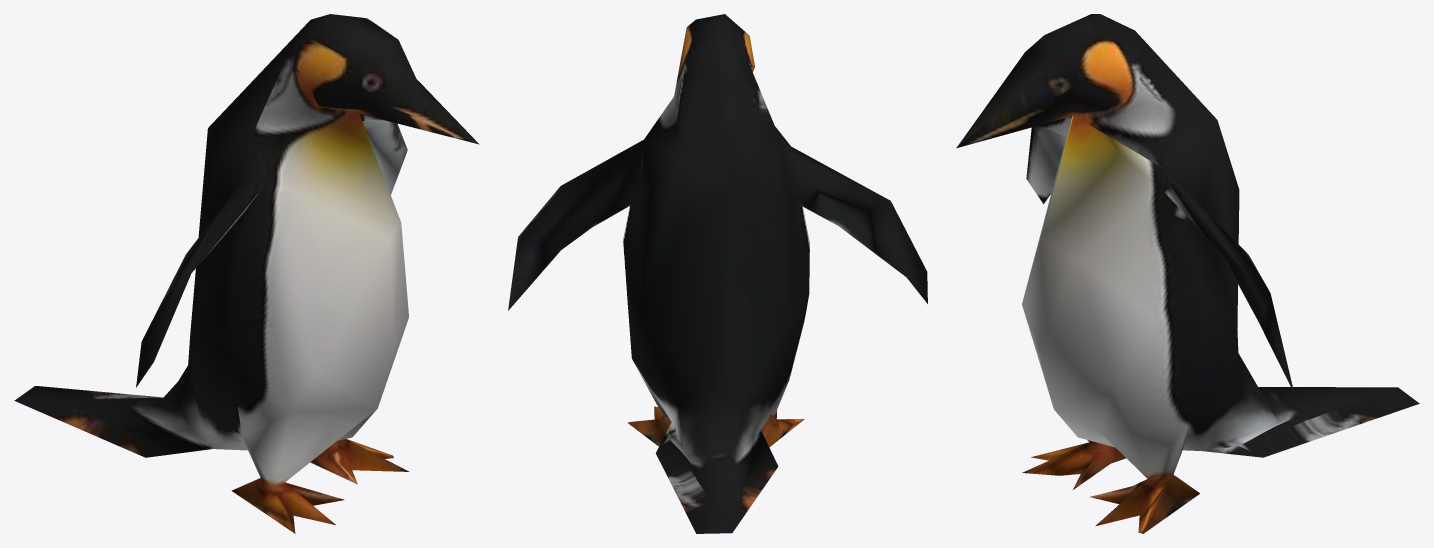
Rendered from Penguin.glb.
3 renders of one model, left to right at view 1: azimuth 30°, elevation 25°; view 2: azimuth 150°, elevation 25°; view 3: azimuth 270°, elevation 25°, orthographic. The views are drawn at different scales.
Visible parts, largest first — view 1: 3d66-Editable_mesh-23283309-003; view 2: 3d66-Editable_mesh-23283309-003; view 3: 3d66-Editable_mesh-23283309-003.
Part boxes in pixels (bbox=[...]): 3d66-Editable_mesh-23283309-003: bbox=[14, 14, 479, 533]; 3d66-Editable_mesh-23283309-003: bbox=[508, 14, 927, 533]; 3d66-Editable_mesh-23283309-003: bbox=[956, 14, 1419, 533].
Bounding box in the file's own units: 0.803 × 0.9667 × 0.8493.
Materials: 1 (1 with a texture image).
